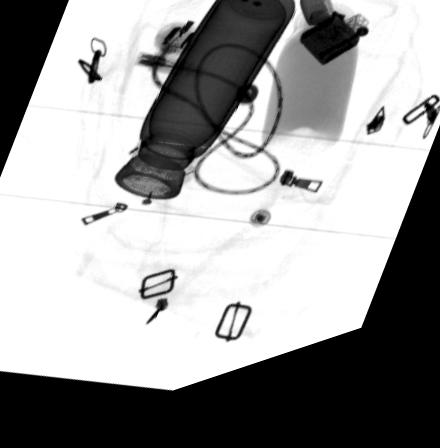Lighter: (298, 8, 371, 88)
